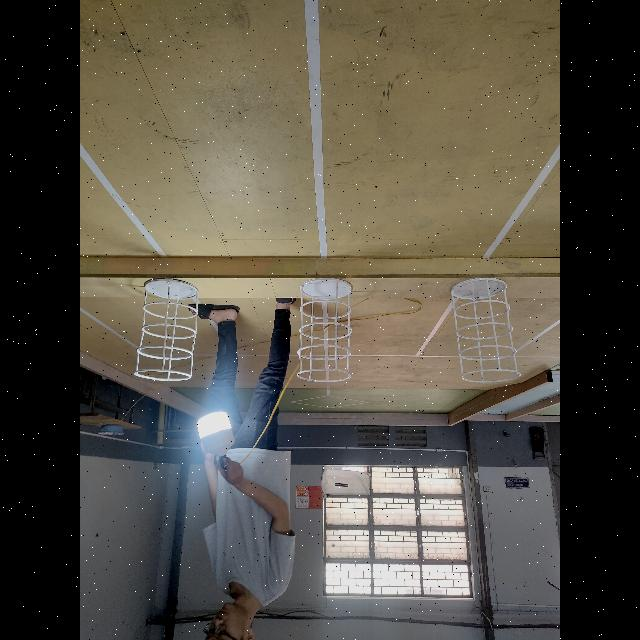S: (450, 277, 522, 385), (134, 278, 202, 382), (295, 276, 353, 384)
